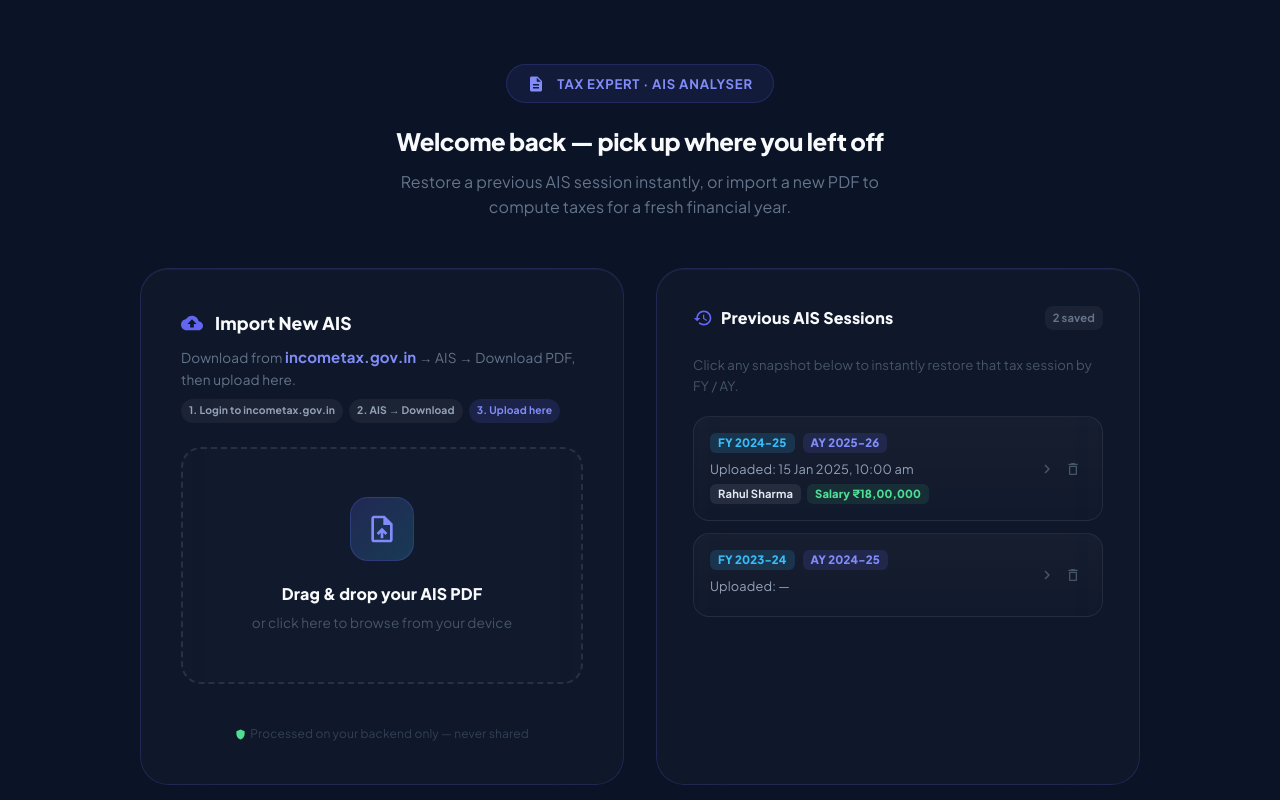
Scenario: TaxUploadPanel › cancels delete dialog on Cancel button click
Expected: the text "Previous AIS Sessions" is shown, [721,305,893,330]
Click the button named "Delete this session" next to "15 Jan 2025, 10:00 am". click: (1073, 469)
box: [1060,456,1086,482]
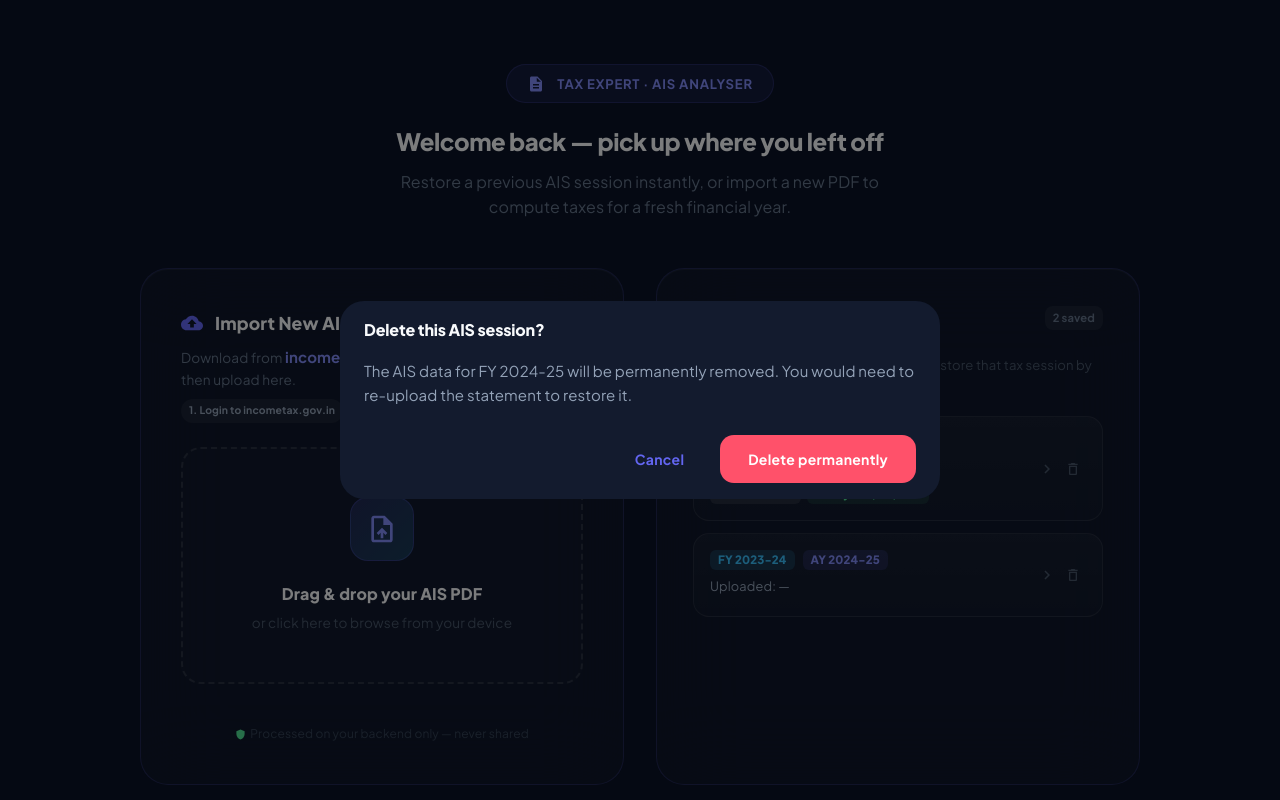
Click the button "Cancel". click: (660, 459)
box: [607,434,712,483]
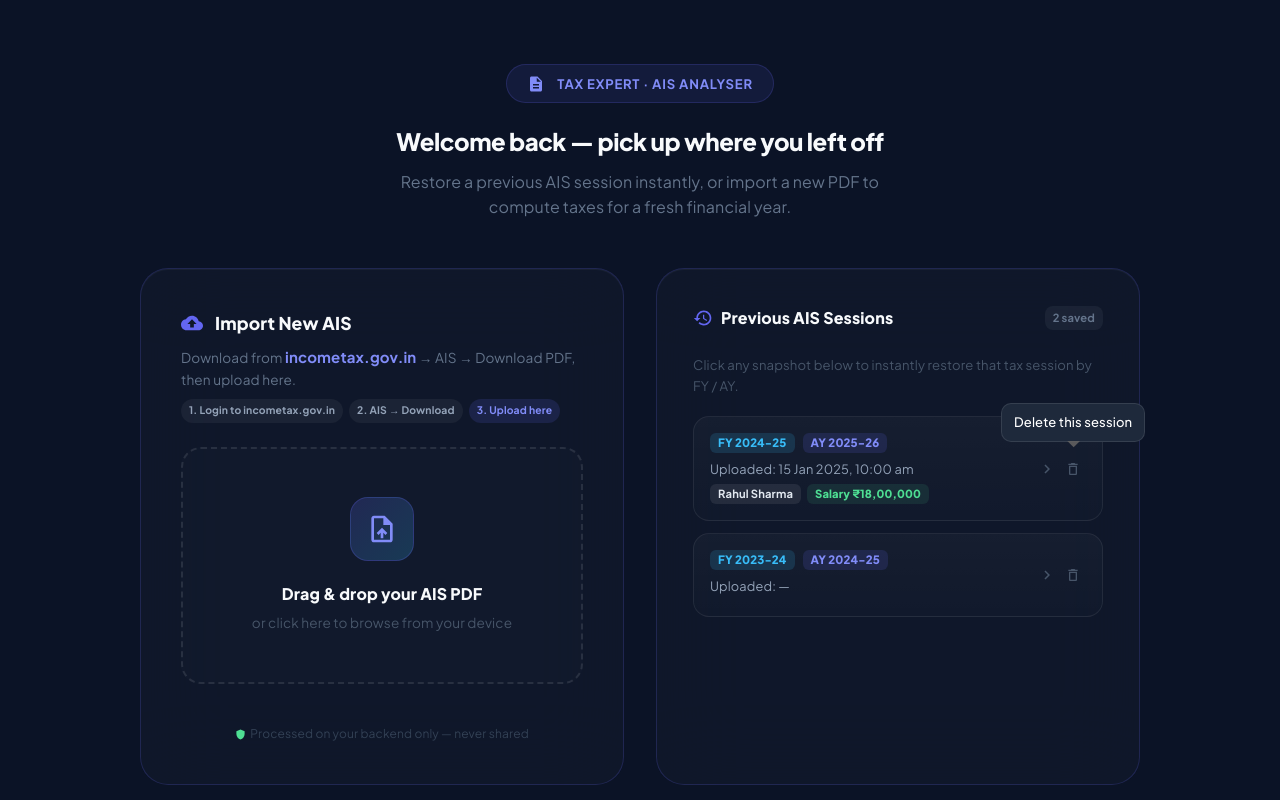
Expected: the heading "Delete this AIS session?" is gone
